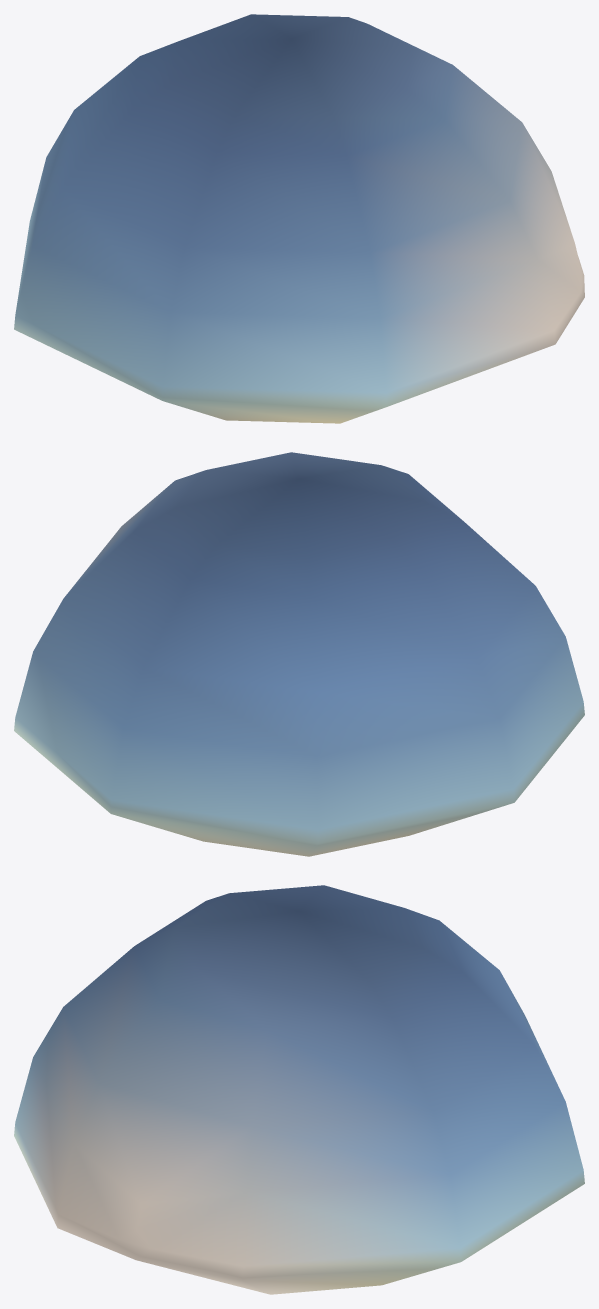
The model's file is skybox.gltf.
3 renders of one model, top to bottom at view 1: azimuth 30°, elevation 25°; view 2: azimuth 150°, elevation 25°; view 3: azimuth 270°, elevation 25°, orthographic. The views are drawn at different scales.
Visible parts, largest first — view 1: sky_anim.001; view 2: sky_anim.001; view 3: sky_anim.001.
Boxes of the visible parts, x1,y1,x2,y2 form: sky_anim.001: (14, 14, 584, 423); sky_anim.001: (14, 452, 584, 856); sky_anim.001: (14, 885, 584, 1294).
Size of the model in its own units: 30.35 by 18.87 by 30.35.
